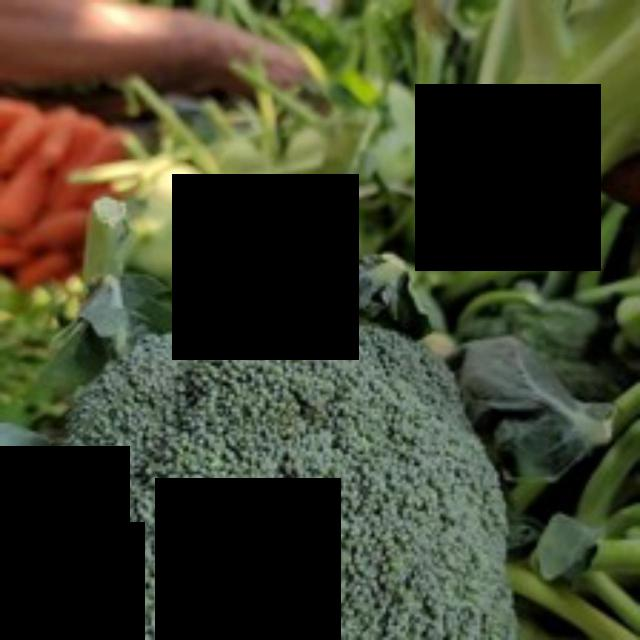broccoli: (51, 317, 522, 637)
